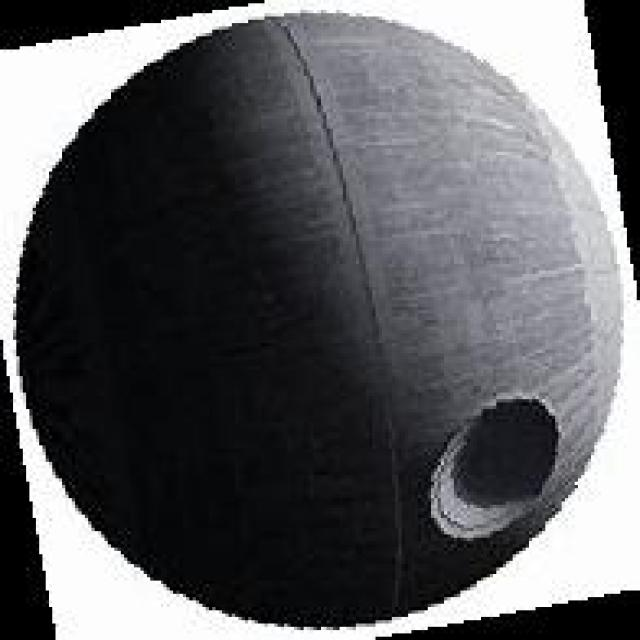Death Star: (11, 8, 620, 626)
